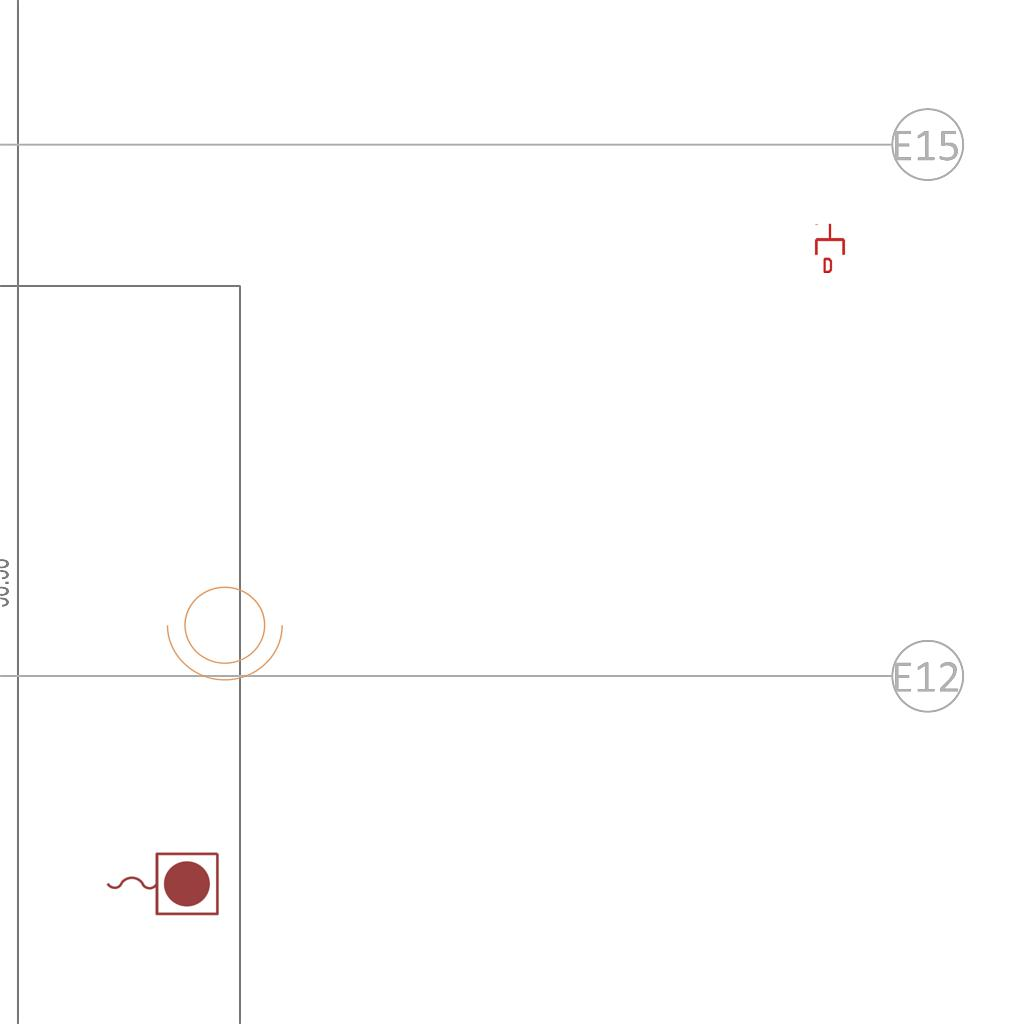Datenanschluss_einfach: (813, 223, 847, 273)
Scheinwerfer_fuer_Alarmbeleuchtung: (162, 574, 294, 686)
Zugtaster: (101, 847, 223, 919)
